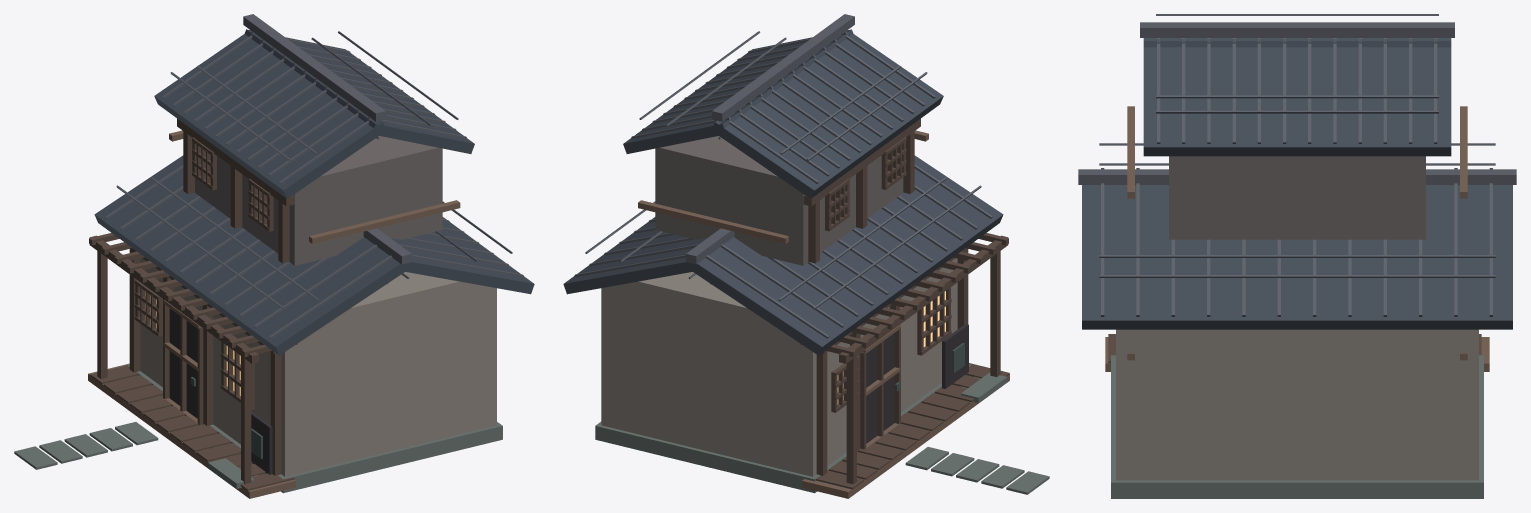
File: tsukimori_shared_home.glb
3 views of the same model, side by side, from view 1: azimuth 30°, elevation 25°; view 2: azimuth 150°, elevation 25°; view 3: azimuth 270°, elevation 25° (orthographic). The views are drawn at different scales.
Visible parts, largest first — view 1: TsukimoriSharedHome; view 2: TsukimoriSharedHome; view 3: TsukimoriSharedHome.
Boxes of the visible parts, box(x1,y1,x2,y2) form: TsukimoriSharedHome: box(14, 14, 534, 498); TsukimoriSharedHome: box(563, 14, 1049, 498); TsukimoriSharedHome: box(1078, 14, 1516, 498).
Size of the model in its own units: 9.1 by 7.48 by 7.25.
